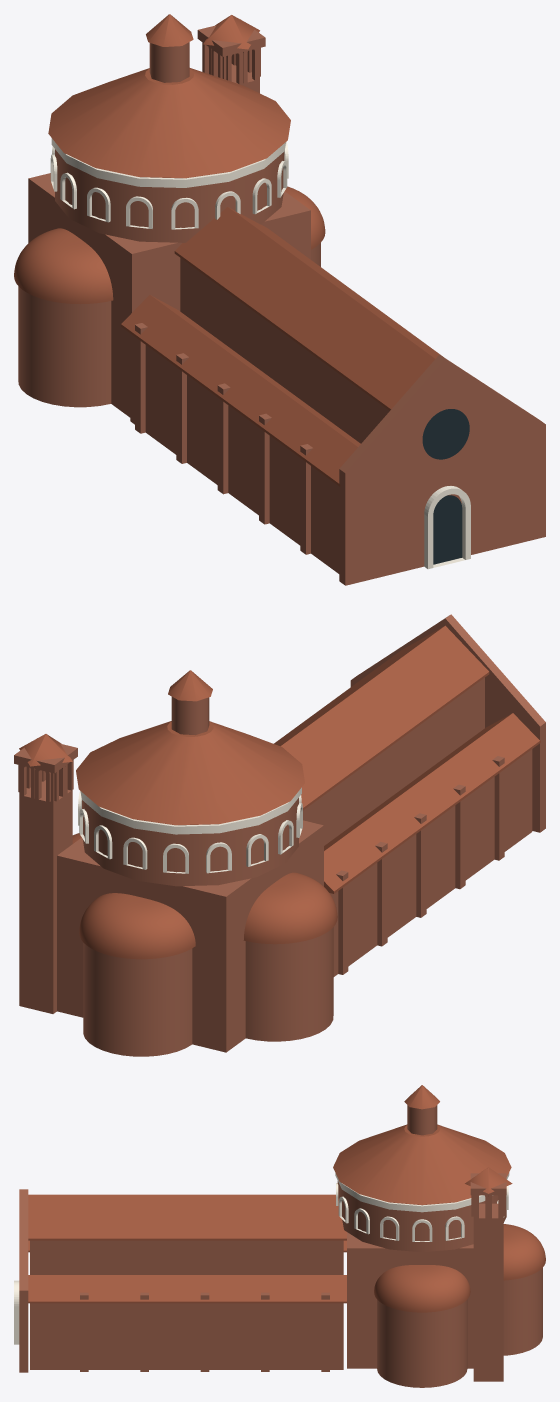
The model's file is santa-maria-grazie.glb.
The picture shows the model from 3 angles, top to bottom: view 1: azimuth 30°, elevation 25°; view 2: azimuth 150°, elevation 25°; view 3: azimuth 270°, elevation 25°; orthographic projection. The views are drawn at different scales.
Parts seen in each view (by area): view 1: gabled-front, central-roof, tiburio-roof, solari-naves, aisle-roof, bramante-tribune, central-nave, tribune-rounded-apse, sixteen-sided-tiburio, apse-cap, side-buttress, tiburio-gallery (+9 smaller); view 2: tribune-rounded-apse, bramante-tribune, tiburio-roof, central-roof, solari-naves, apse-cap, aisle-roof, sixteen-sided-tiburio, bell-tower, central-nave, side-buttress, gabled-front (+7 smaller); view 3: solari-naves, central-roof, central-nave, tribune-rounded-apse, tiburio-roof, aisle-roof, bramante-tribune, apse-cap, bell-tower, sixteen-sided-tiburio, side-buttress, gabled-front (+8 smaller).
Part boxes in pixels (x1,y1,x2,y2): gabled-front: (339, 354, 545, 585); central-roof: (174, 207, 442, 410); tiburio-roof: (48, 68, 290, 178); solari-naves: (130, 334, 339, 573); aisle-roof: (121, 295, 360, 486); bramante-tribune: (28, 173, 310, 417); central-nave: (180, 258, 389, 443); tribune-rounded-apse: (18, 243, 320, 407); sixteen-sided-tiburio: (55, 149, 284, 242); apse-cap: (14, 186, 325, 304); side-buttress: (135, 323, 312, 554); tiburio-gallery: (50, 142, 288, 229); tribune-rounded-apse: (83, 927, 333, 1056); bramante-tribune: (57, 820, 323, 1052); tiburio-roof: (76, 721, 304, 825); central-roof: (274, 625, 489, 810); solari-naves: (329, 749, 532, 976); apse-cap: (72, 833, 337, 959); aisle-roof: (324, 713, 540, 893); sixteen-sided-tiburio: (82, 798, 298, 886); bell-tower: (19, 781, 72, 1013); central-nave: (303, 677, 484, 845); side-buttress: (336, 756, 504, 974); gabled-front: (350, 614, 545, 832); solari-naves: (30, 1303, 343, 1369); central-roof: (28, 1194, 346, 1240); central-nave: (30, 1240, 343, 1274); tribune-rounded-apse: (377, 1268, 542, 1387); tiburio-roof: (333, 1124, 511, 1204); aisle-roof: (27, 1240, 346, 1303); bramante-tribune: (347, 1232, 473, 1368); apse-cap: (374, 1224, 545, 1312); bell-tower: (473, 1204, 503, 1381); sixteen-sided-tiburio: (337, 1181, 506, 1252); side-buttress: (80, 1292, 329, 1371); gabled-front: (19, 1189, 28, 1372).
Bounding box in the file's own units: 7.44 × 8.35 × 16.
